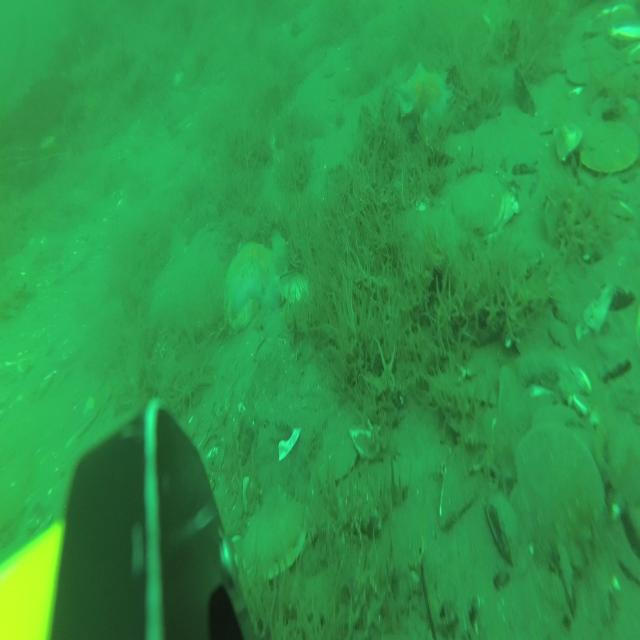scallop: (515, 440, 606, 551), (240, 491, 308, 573), (578, 113, 640, 171), (446, 176, 506, 232)
starfish: (222, 234, 292, 322), (396, 59, 453, 124)
